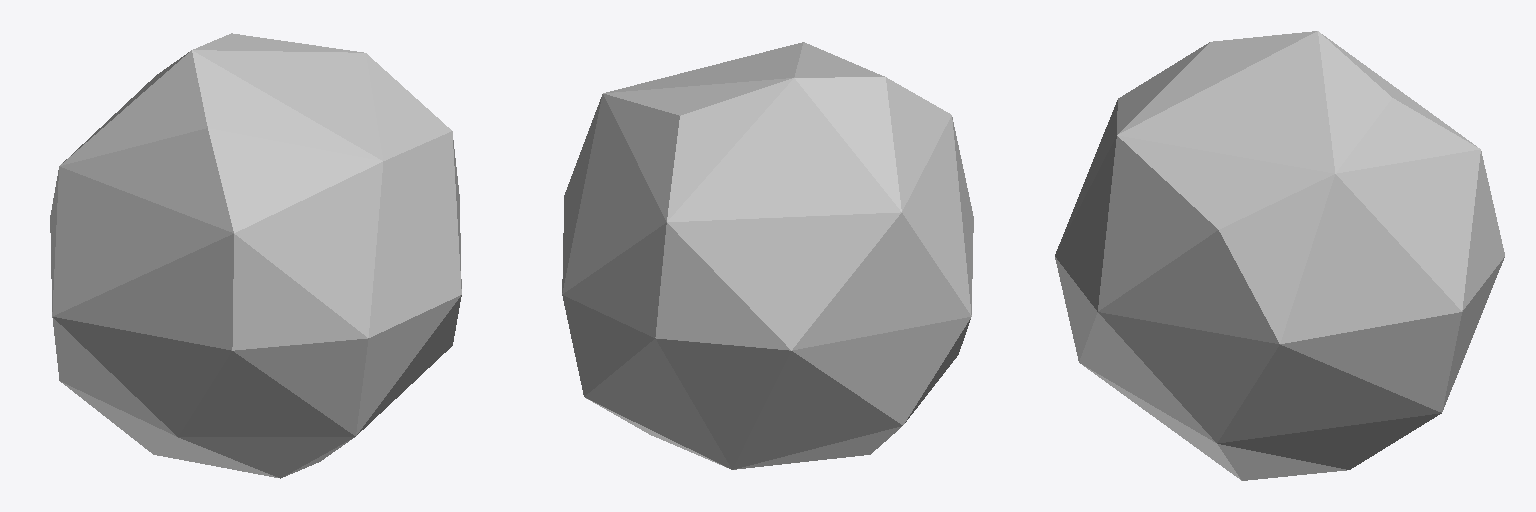
The model's file is TankBullet.obj.
3 views of the same model, side by side, from view 1: azimuth 30°, elevation 25°; view 2: azimuth 150°, elevation 25°; view 3: azimuth 270°, elevation 25° (orthographic).
Parts seen in each view (by area): view 1: ICO球; view 2: ICO球; view 3: ICO球.
Boxes of the visible parts, <box> form: ICO球: <box>50,33,461,478</box>; ICO球: <box>562,42,973,469</box>; ICO球: <box>1055,31,1504,480</box>.
Bounding box in the file's own units: 0.6263 × 0.5966 × 0.6.